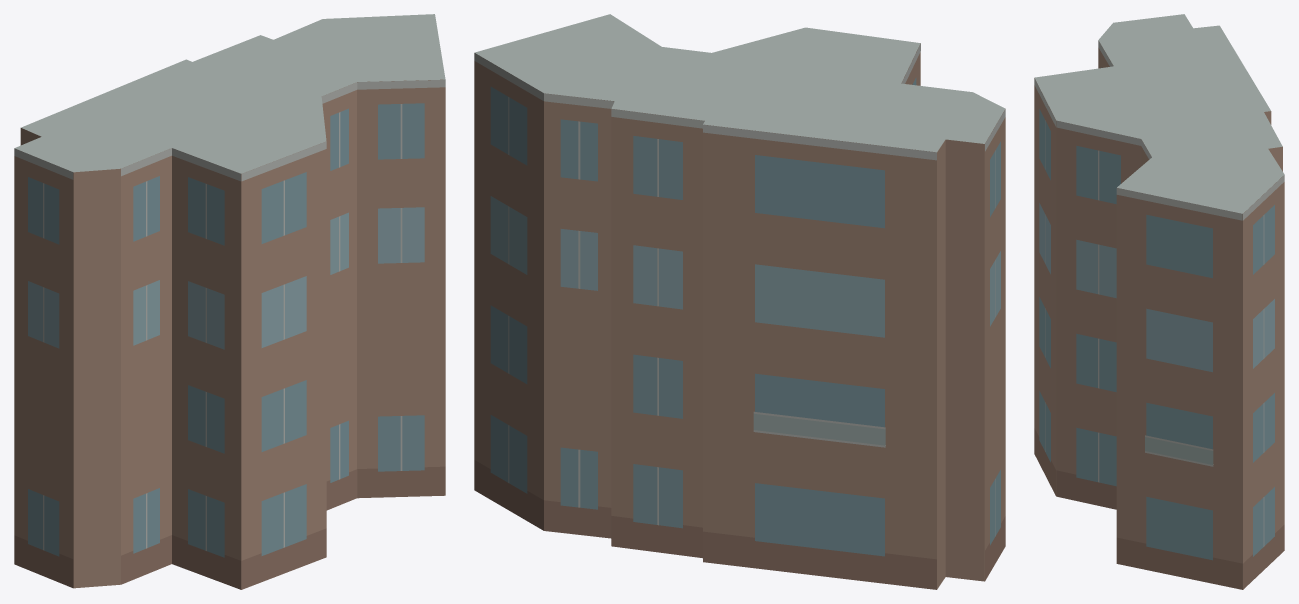
File: survey-upis-32966786.glb
The picture shows the model from 3 angles, left to right: view 1: azimuth 30°, elevation 25°; view 2: azimuth 150°, elevation 25°; view 3: azimuth 270°, elevation 25°; orthographic projection. The views are drawn at different scales.
Parts seen in each view (by area): view 1: survey-upis-32966786.tmp; view 2: survey-upis-32966786.tmp; view 3: survey-upis-32966786.tmp.
Part boxes in pixels (x1,y1,x2,y2): survey-upis-32966786.tmp: [14, 14, 445, 589]; survey-upis-32966786.tmp: [474, 14, 1005, 589]; survey-upis-32966786.tmp: [1034, 14, 1284, 589].
Size of the model in its own units: 15.05 by 13.2 by 7.97.
